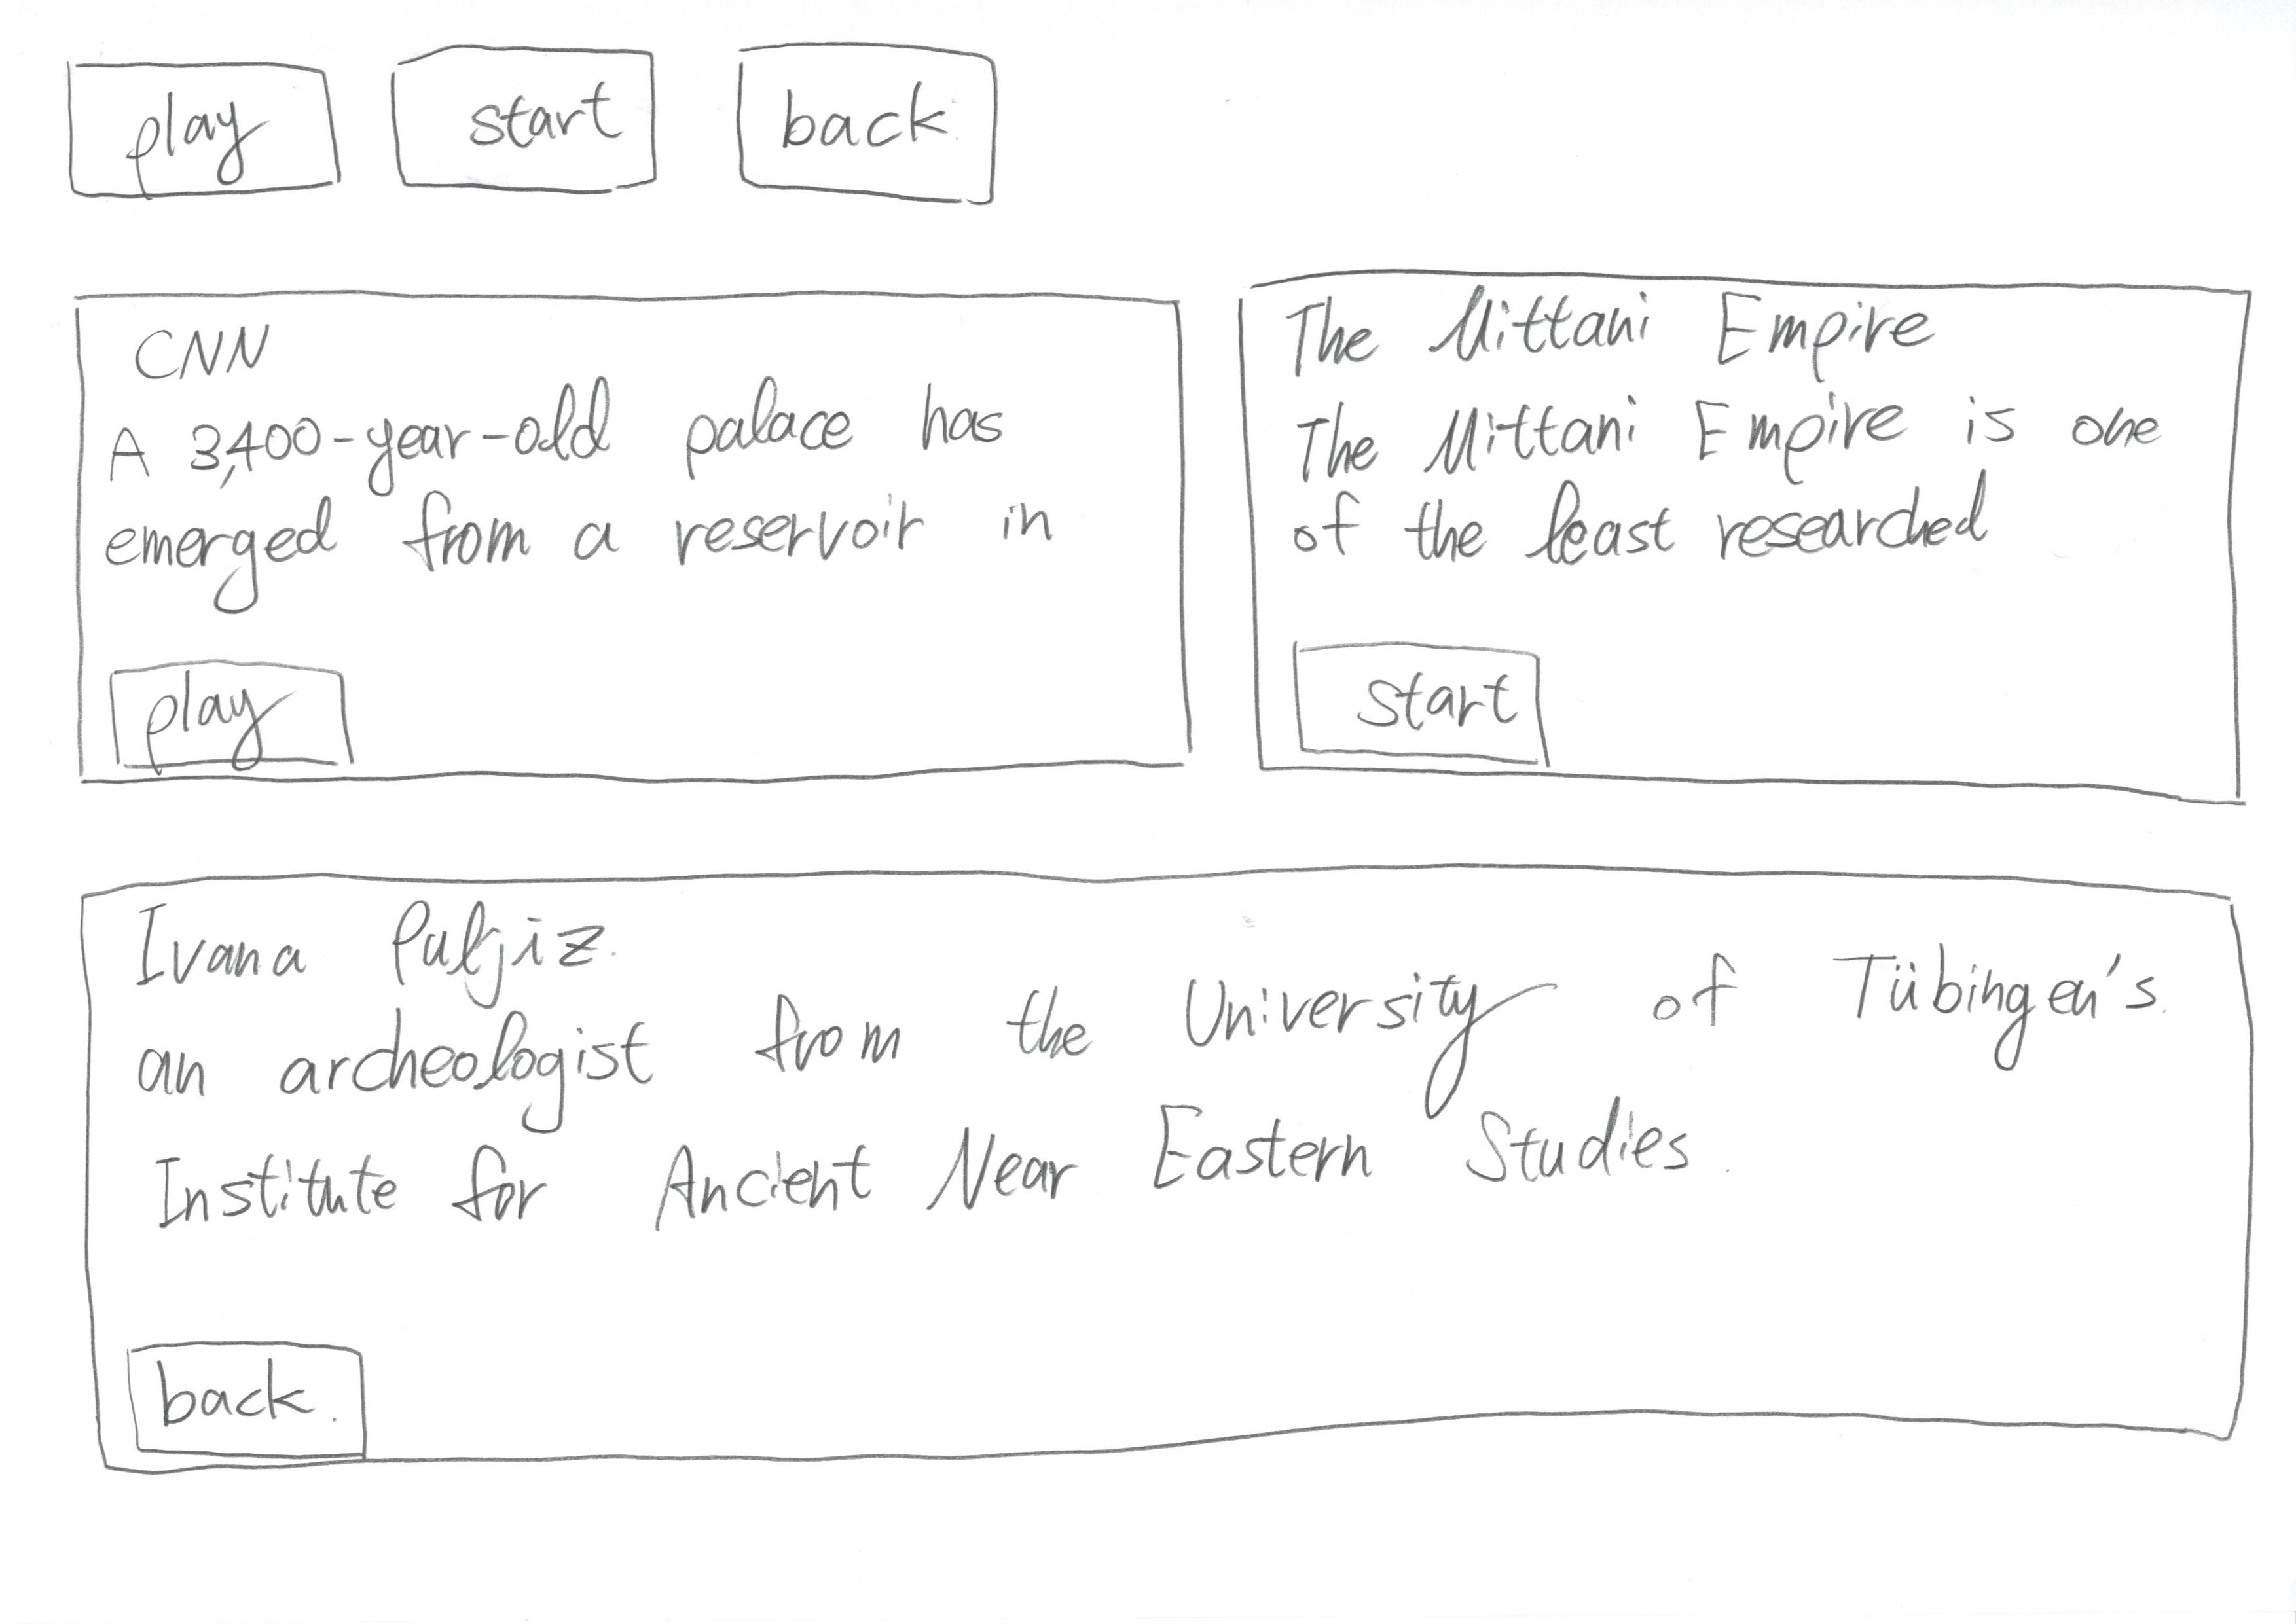back: (708, 19, 1062, 225), (107, 1322, 431, 1499)
double: (58, 251, 1224, 816), (1210, 258, 2296, 819)
play: (40, 28, 369, 220), (95, 643, 425, 801)
row: (21, 244, 2296, 944), (21, 796, 2296, 1496), (21, 0, 2296, 250)
single: (47, 826, 2296, 1529)
small-title: (1283, 286, 1983, 387), (120, 898, 672, 1018), (123, 316, 287, 380)
start: (357, 0, 677, 220), (1269, 613, 1631, 803)
text: (118, 932, 2220, 1294), (118, 392, 1109, 620), (1285, 406, 2157, 596)
